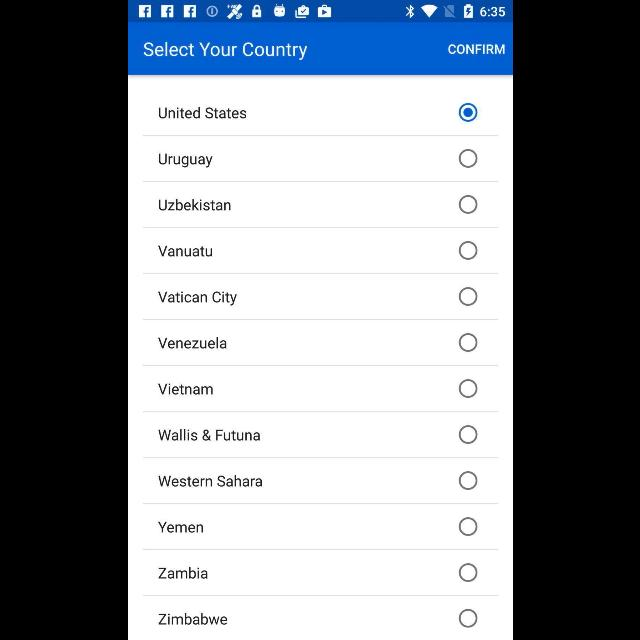checkbox: (458, 148, 477, 168), (458, 102, 477, 121), (458, 241, 477, 259), (458, 333, 477, 351), (458, 195, 476, 213), (458, 287, 476, 305), (458, 380, 476, 398), (458, 426, 476, 444), (458, 472, 476, 490), (458, 518, 476, 536), (458, 564, 476, 582), (459, 609, 477, 627)
text: (143, 41, 307, 60), (158, 475, 262, 487), (157, 429, 259, 441), (158, 292, 236, 306), (158, 107, 246, 119), (158, 199, 230, 211), (158, 337, 226, 349), (158, 613, 226, 625), (158, 154, 212, 168), (158, 567, 206, 579), (448, 44, 504, 54), (158, 246, 212, 256), (158, 384, 212, 394), (158, 522, 202, 532)
uppertaskbar: (128, 1, 512, 23)
